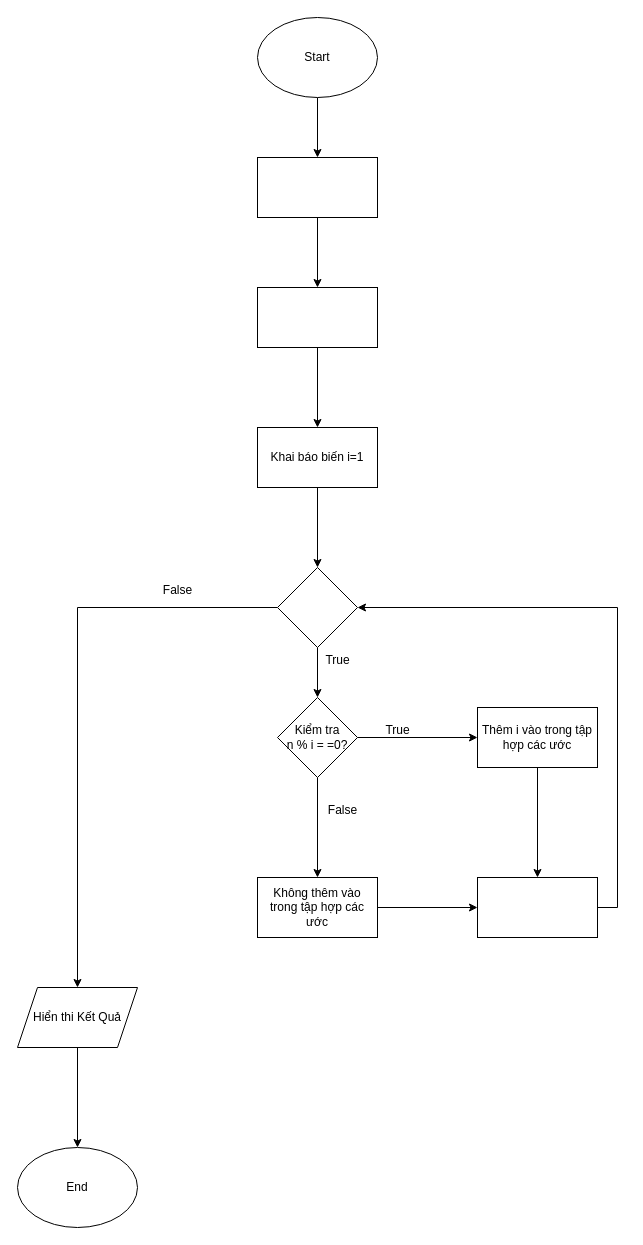
Some shapes in this 643 by 1245 pixel diagram are drawn without their labels. The centre of each missing label's shape, as x and y in pixels:
"Dùng vòng lặp for" goes at pixel 317 317.
"Nhập vào số nguyên N?" goes at pixel 317 187.
"Nếu i < n" goes at pixel 317 607.
"Tăng i++" goes at pixel 537 907.
